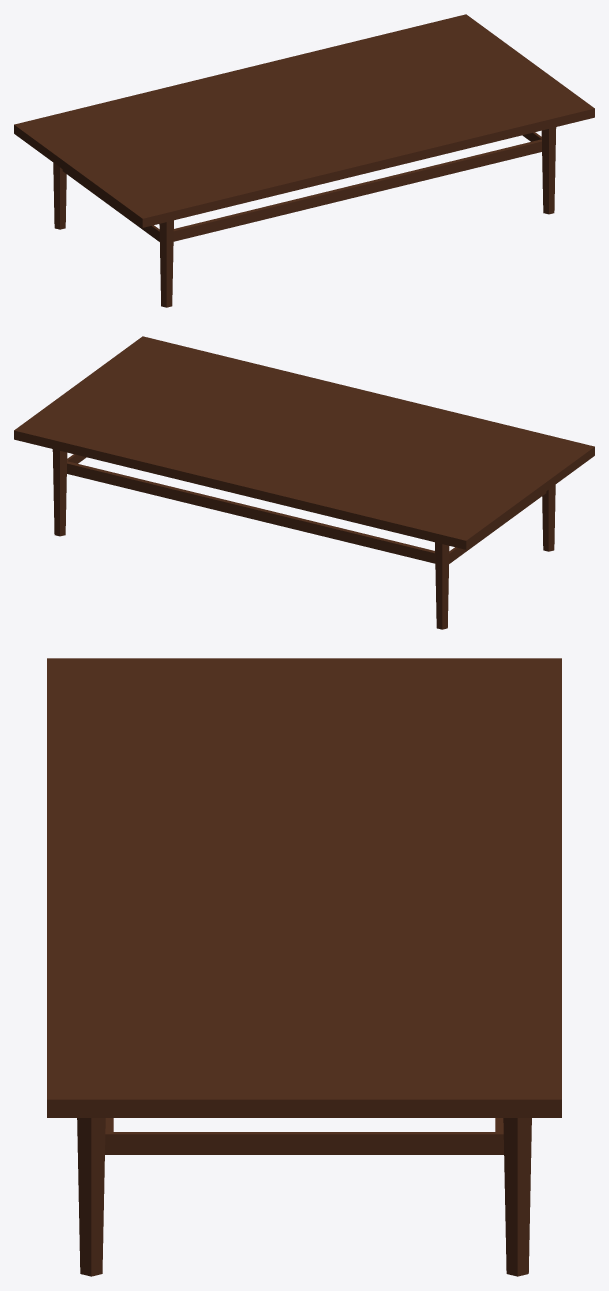
The model's file is big table.fbx.
3 views of the same model, one above another, from view 1: azimuth 30°, elevation 25°; view 2: azimuth 150°, elevation 25°; view 3: azimuth 270°, elevation 25° (orthographic). The views are drawn at different scales.
Parts seen in each view (by area): view 1: pCylinder29; view 2: pCylinder29; view 3: pCylinder29.
Boxes of the visible parts, x1=… form: pCylinder29: x1=14, y1=14, x2=594, y2=307; pCylinder29: x1=14, y1=336, x2=594, y2=629; pCylinder29: x1=47, y1=658, x2=561, y2=1276.
Bounding box in the file's own units: 10.86 × 2.36 × 5.36.
